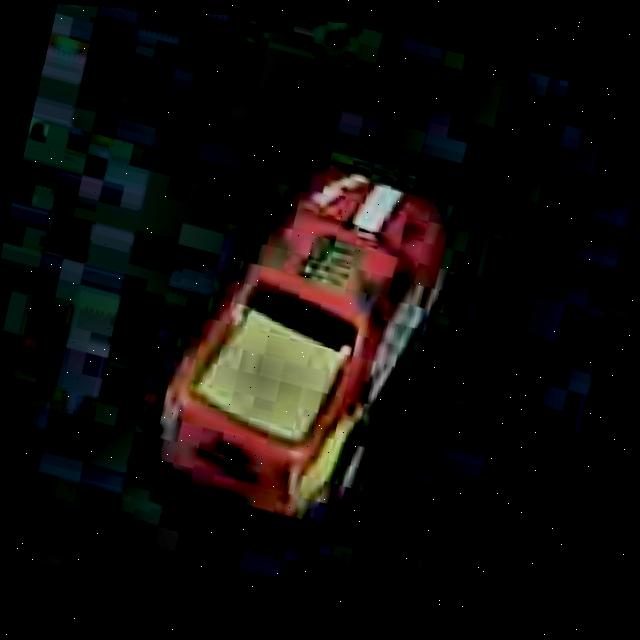car: (140, 119, 474, 551)
